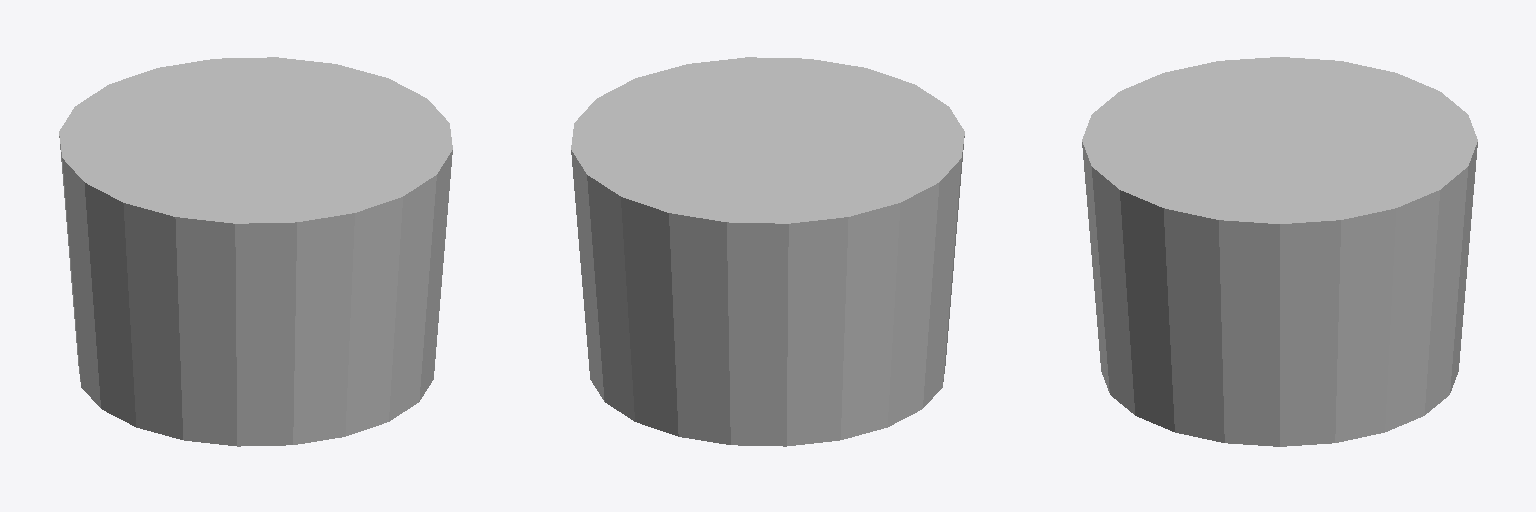
Rendered from Milk.obj.
The picture shows the model from 3 angles: view 1: azimuth 30°, elevation 25°; view 2: azimuth 150°, elevation 25°; view 3: azimuth 270°, elevation 25°; orthographic projection.
Bounding box in the file's own units: 7.24 × 4.66 × 7.24.